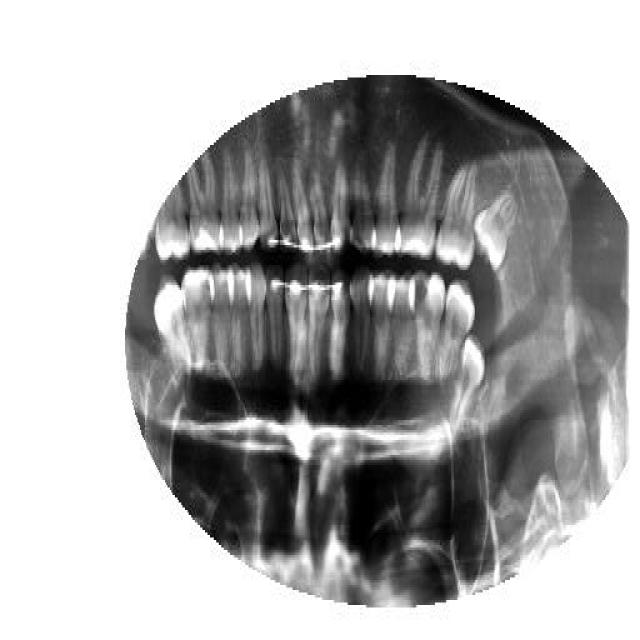Impacted Tooth: (471, 190, 519, 275), (449, 332, 486, 442)
